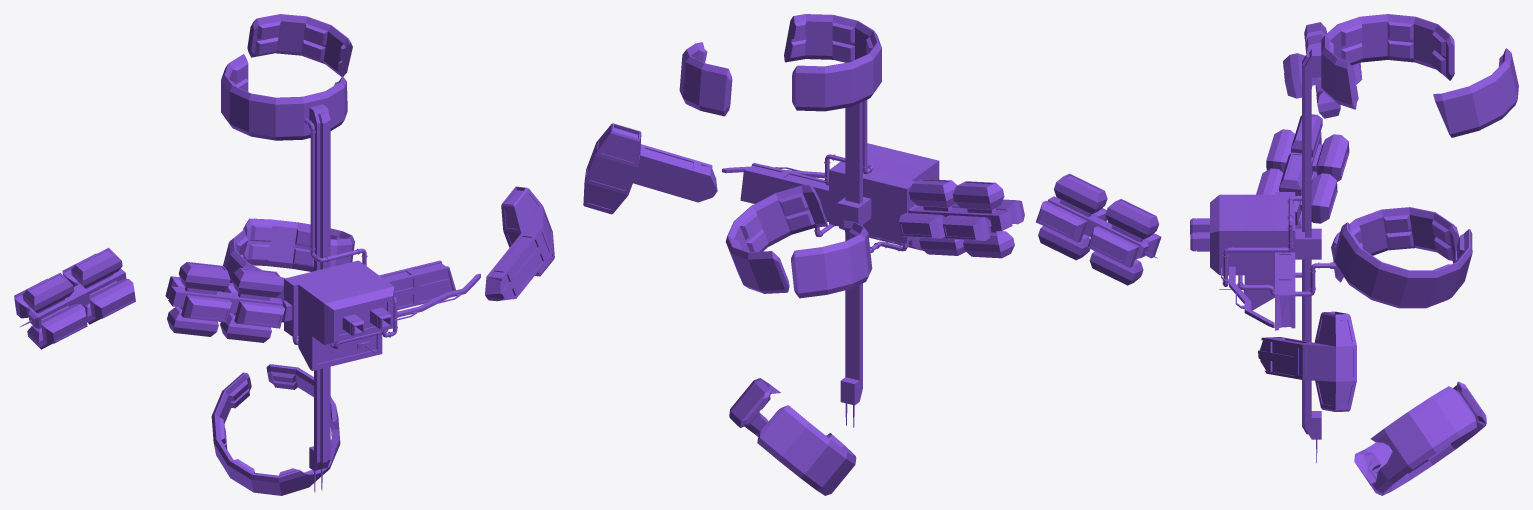
Rendered from Derelict.obj.
3 renders of one model, left to right at view 1: azimuth 30°, elevation 25°; view 2: azimuth 150°, elevation 25°; view 3: azimuth 270°, elevation 25°, orthographic. The views are drawn at different scales.
Visible parts, largest first — view 1: station; view 2: station; view 3: station.
Boxes of the visible parts, x1,y1,x2,y2 form: station: [14, 14, 554, 495]; station: [583, 14, 1161, 495]; station: [1190, 14, 1518, 495].
Bounding box in the file's own units: 167 × 126 × 82.2.
